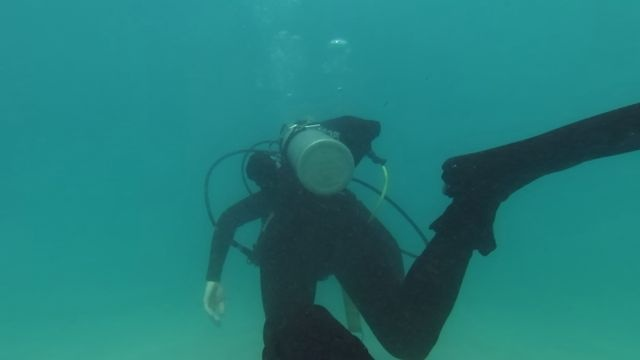Diver: (186, 99, 639, 359)
Hand: (196, 276, 234, 330)
